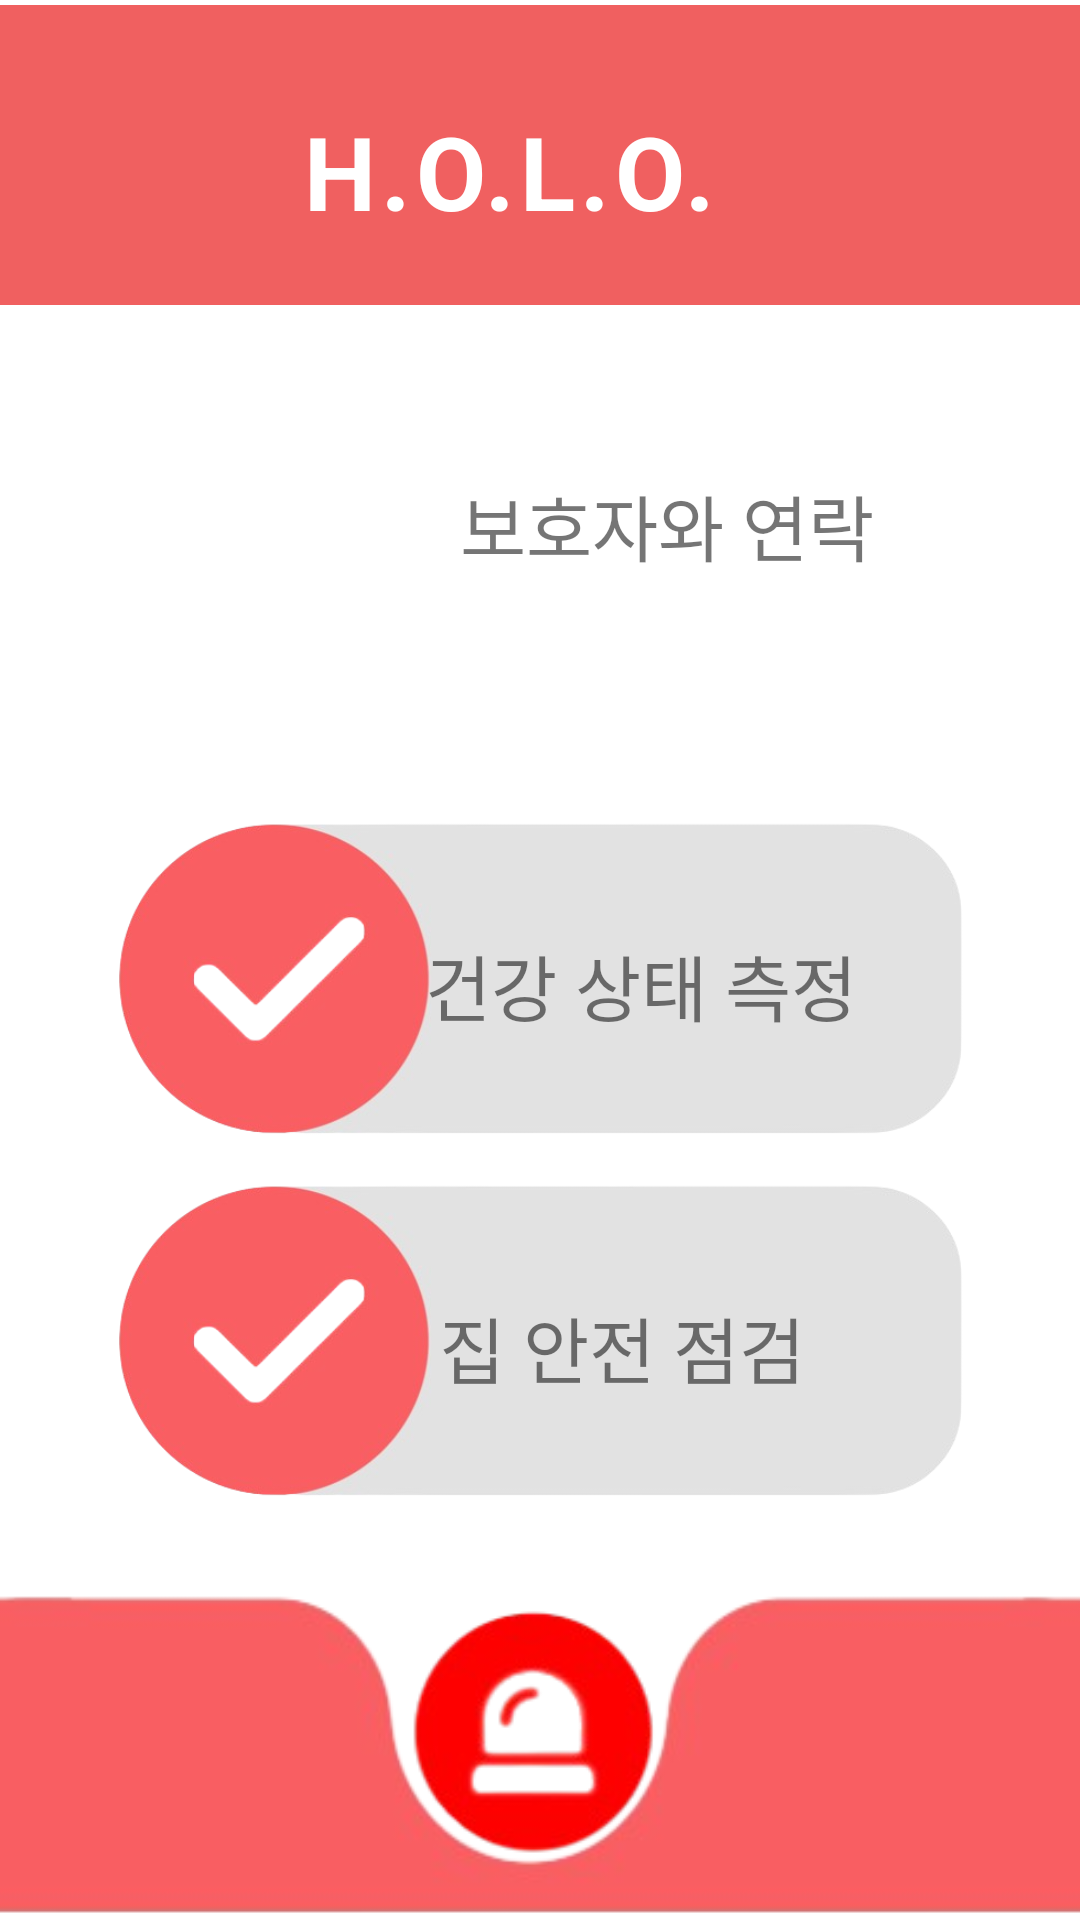

Named icons in this screenshot (1080 × 1920) and their centers, point (x, y):
알람버튼: point (538, 1739)
